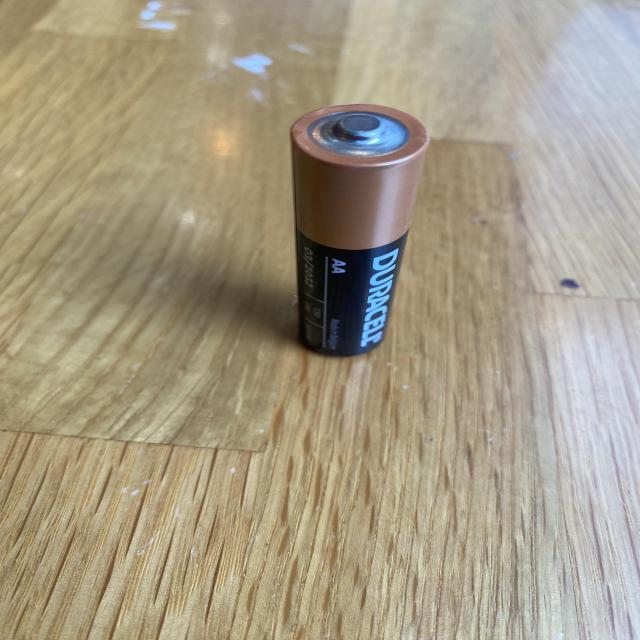AA: (288, 102, 430, 357)
